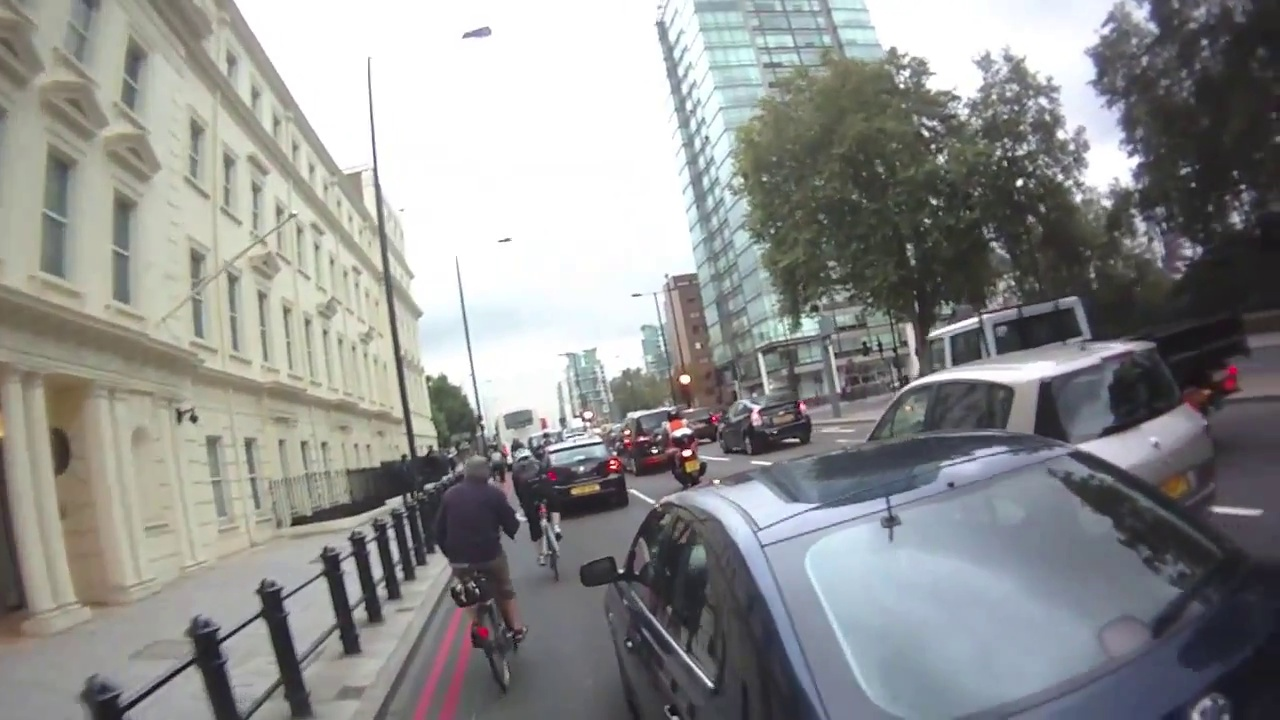cyclist_back: (431, 442, 530, 693), (509, 433, 571, 586), (653, 410, 708, 499)
